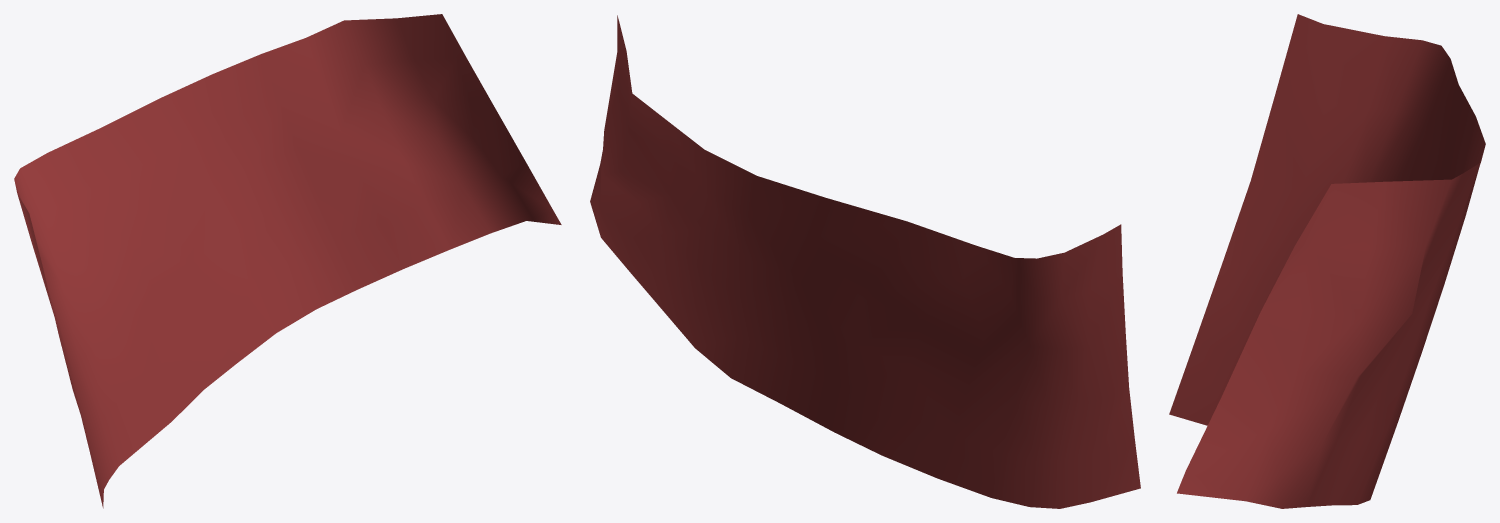
The model's file is extensor-retinaculum-of-wrist-l.glb.
The picture shows the model from 3 angles, left to right: view 1: azimuth 30°, elevation 25°; view 2: azimuth 150°, elevation 25°; view 3: azimuth 270°, elevation 25°; orthographic projection. The views are drawn at different scales.
Visible parts, largest first — view 1: Extensor retinaculum of wrist.l; view 2: Extensor retinaculum of wrist.l; view 3: Extensor retinaculum of wrist.l.
Boxes of the visible parts, left/top/right/bottom form: Extensor retinaculum of wrist.l: left=14, top=14, right=561, bottom=508; Extensor retinaculum of wrist.l: left=590, top=15, right=1140, bottom=508; Extensor retinaculum of wrist.l: left=1169, top=14, right=1485, bottom=508.
Bounding box in the file's own units: 0.0567 × 0.0398 × 0.0224.
